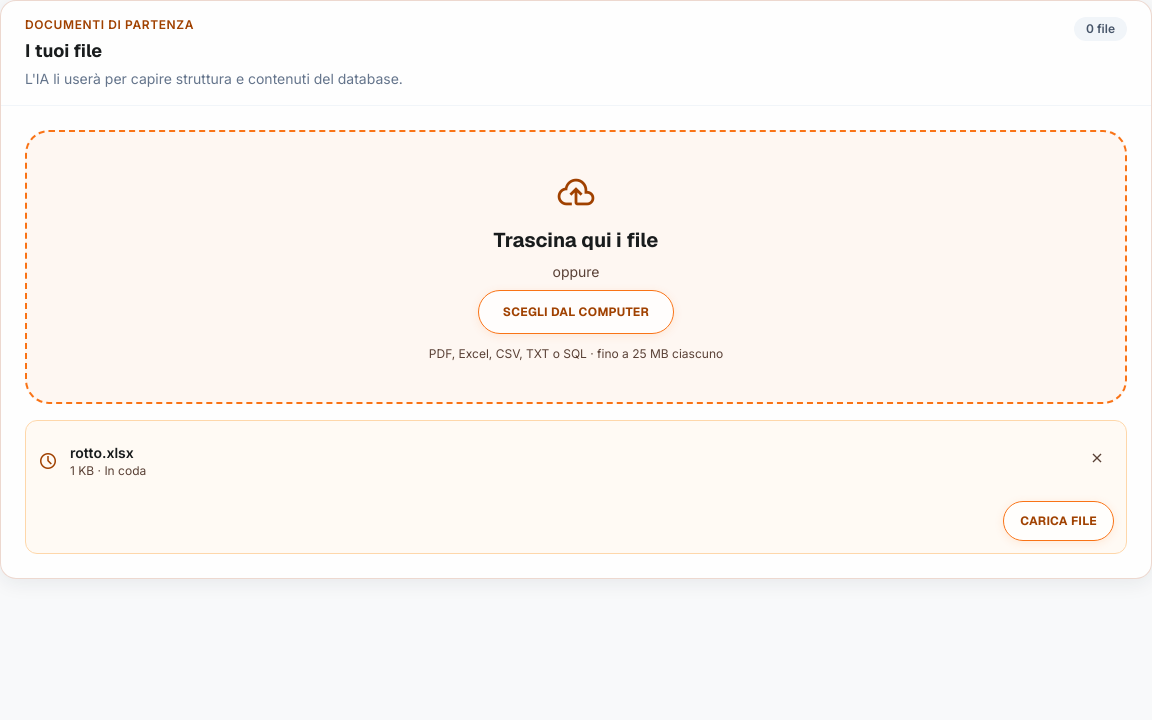
Test case: DocumentUploader › shows the backend error for a corrupt xlsx
Earlier steps of the test are not shown.
Click the button "Carica file" at (1059, 521), box x1=1003 y1=501 x2=1114 y2=541
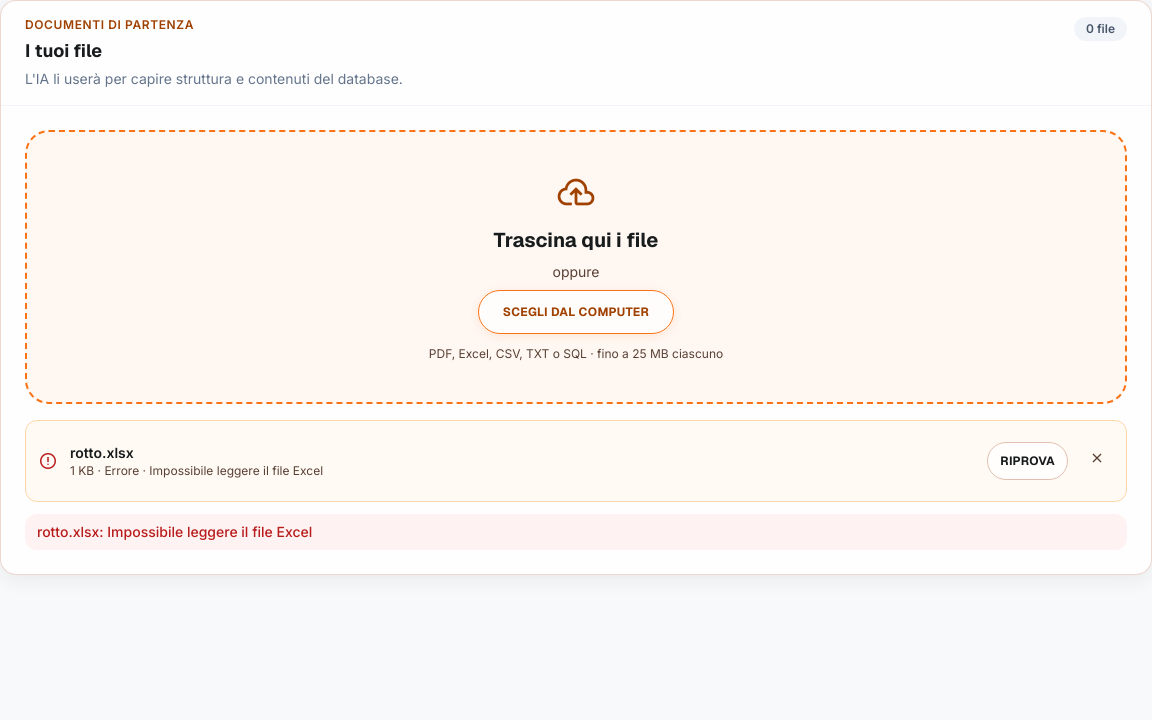
Check: the message shows "Impossibile leggere il file Excel", box x1=37 y1=523 x2=312 y2=540
